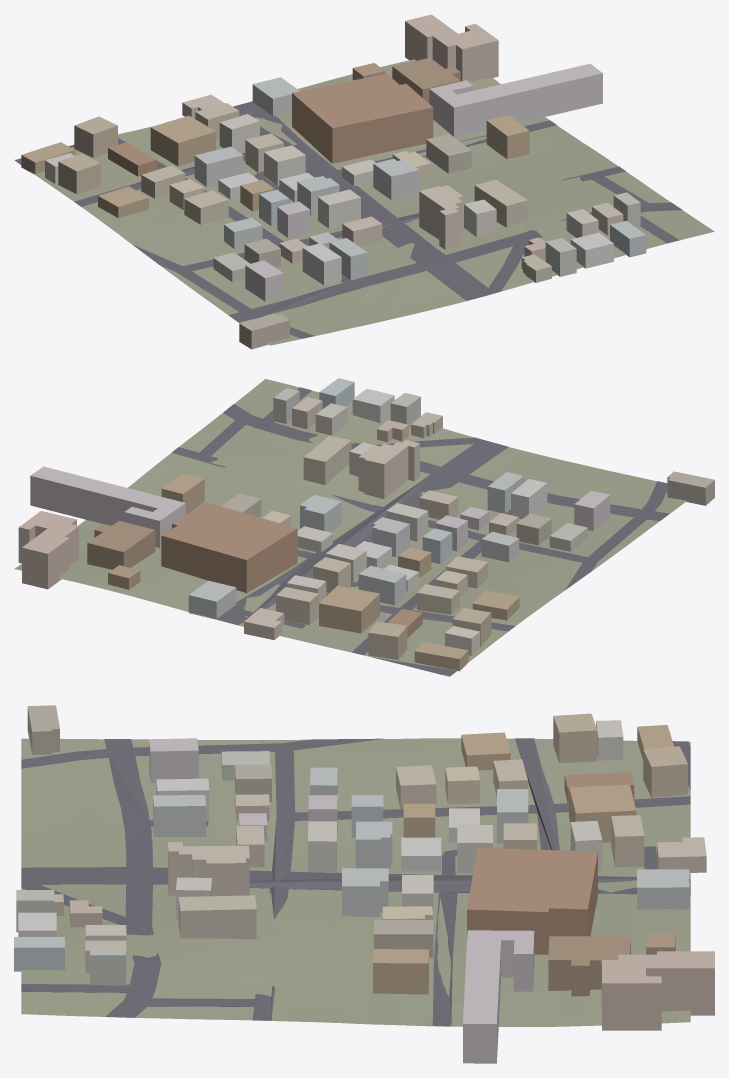
File: chunk_7_8.glb
3 renders of one model, top to bottom at view 1: azimuth 30°, elevation 25°; view 2: azimuth 150°, elevation 25°; view 3: azimuth 270°, elevation 25°, orthographic. The views are drawn at different scales.
Visible parts, largest first — view 1: geometry_55, geometry_54, geometry_43, geometry_73, geometry_33, geometry_8, geometry_44, geometry_62, geometry_42, geometry_40, geometry_37, geometry_36 (+43 smaller); view 2: geometry_55, geometry_54, geometry_43, geometry_73, geometry_33, geometry_44, geometry_42, geometry_8, geometry_37, geometry_39, geometry_15, geometry_9 (+49 smaller); view 3: geometry_55, geometry_54, geometry_33, geometry_43, geometry_73, geometry_42, geometry_44, geometry_37, geometry_60, geometry_62, geometry_36, geometry_8 (+54 smaller).
Part boxes in pixels (<box>): geometry_55: <box>14,59,714,345</box>; geometry_54: <box>292,73,433,163</box>; geometry_43: <box>429,63,602,136</box>; geometry_73: <box>233,101,493,300</box>; geometry_33: <box>405,14,498,81</box>; geometry_8: <box>150,115,216,166</box>; geometry_44: <box>419,185,463,249</box>; geometry_62: <box>251,259,437,317</box>; geometry_42: <box>392,57,460,103</box>; geometry_40: <box>373,158,419,199</box>; geometry_37: <box>474,179,527,227</box>; geometry_36: <box>486,115,529,159</box>; geometry_55: <box>14,379,686,676</box>; geometry_54: <box>161,502,297,593</box>; geometry_43: <box>30,466,185,547</box>; geometry_73: <box>210,439,508,625</box>; geometry_33: <box>18,511,78,589</box>; geometry_44: <box>358,440,419,499</box>; geometry_42: <box>87,520,155,569</box>; geometry_8: <box>319,585,379,633</box>; geometry_37: <box>303,435,351,485</box>; geometry_39: <box>188,580,236,618</box>; geometry_15: <box>358,565,406,605</box>; geometry_9: <box>368,621,407,659</box>; geometry_55: <box>21,738,690,1026</box>; geometry_54: <box>467,848,597,954</box>; geometry_33: <box>601,951,714,1030</box>; geometry_43: <box>463,930,534,1063</box>; geometry_73: <box>21,867,690,895</box>; geometry_42: <box>548,936,630,996</box>; geometry_44: <box>168,842,249,896</box>; geometry_37: <box>178,895,256,939</box>; geometry_60: <box>252,750,295,1020</box>; geometry_62: <box>108,752,153,875</box>; geometry_36: <box>373,949,428,994</box>; geometry_8: <box>569,784,636,842</box>.
Size of the model in its own units: 293 by 20.81 by 262.
